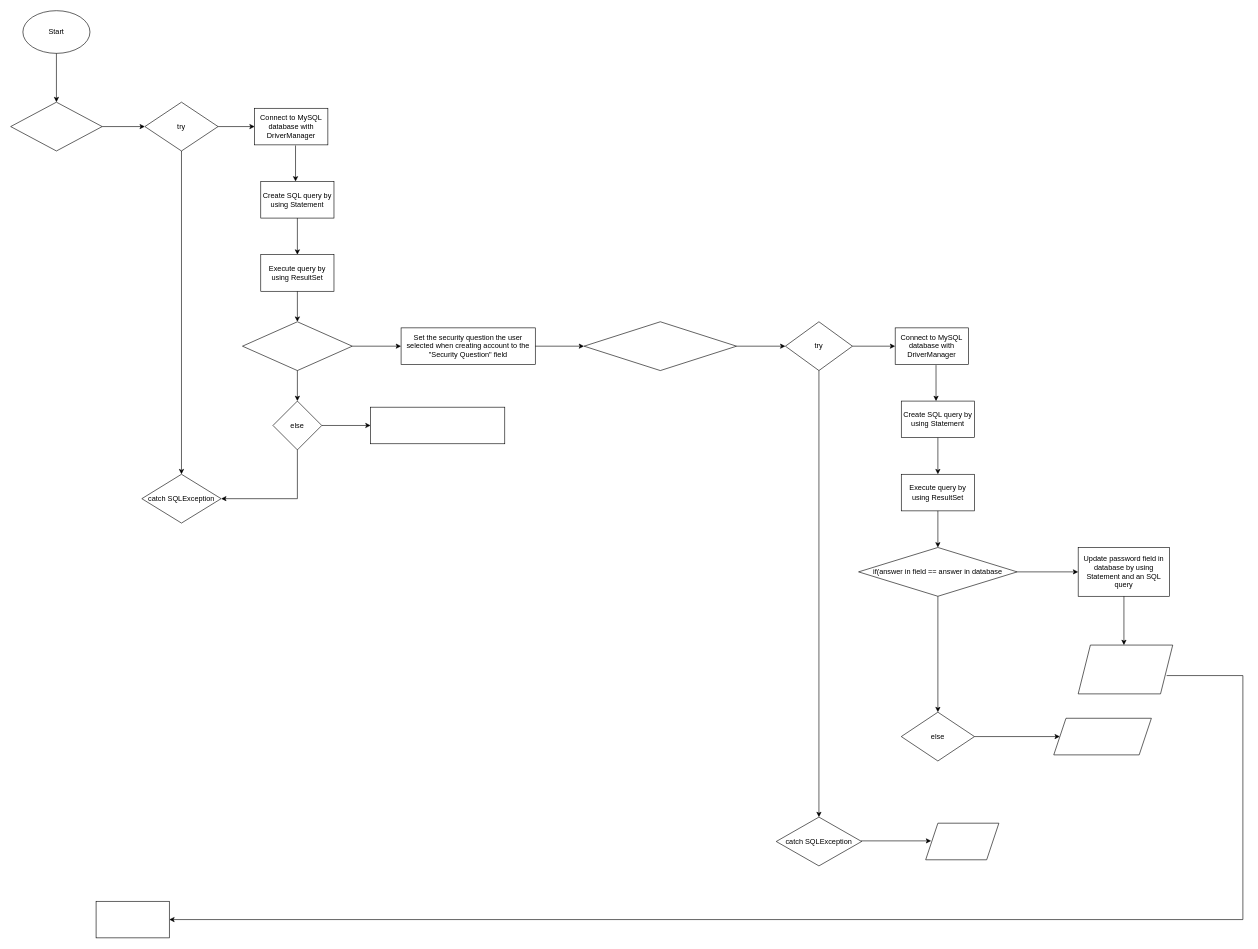
Image size: 1258x949. Some labels were removed from this diagram. The shapes that lost their labels are listed below. From the top down, each one's centre as x and y in pixels, then its label:
point 56,126: if(getSource == search)
point 297,346: if(resultSet.next()
point 660,346: if(getSource == "Change Password")
point 437,425: "Username not found"
point 1125,669: OptionPane Message: Password successfully changed
point 1102,736: OptionPane Message: Incorrect answer or username
point 962,841: OptionPane Message: Error in connection
point 132,919: Return to Student Login Screen
